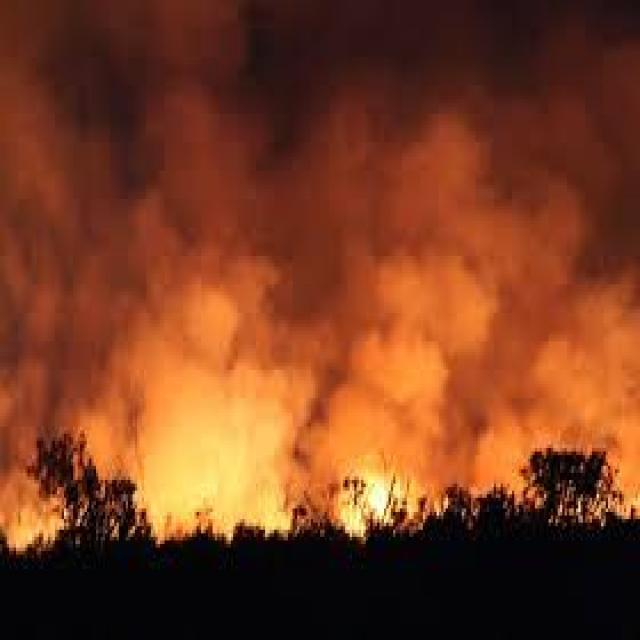Fire: (126, 444, 290, 537), (302, 440, 416, 548), (0, 455, 73, 553), (336, 471, 370, 537)
Smoke: (148, 60, 242, 204), (1, 68, 74, 246)
